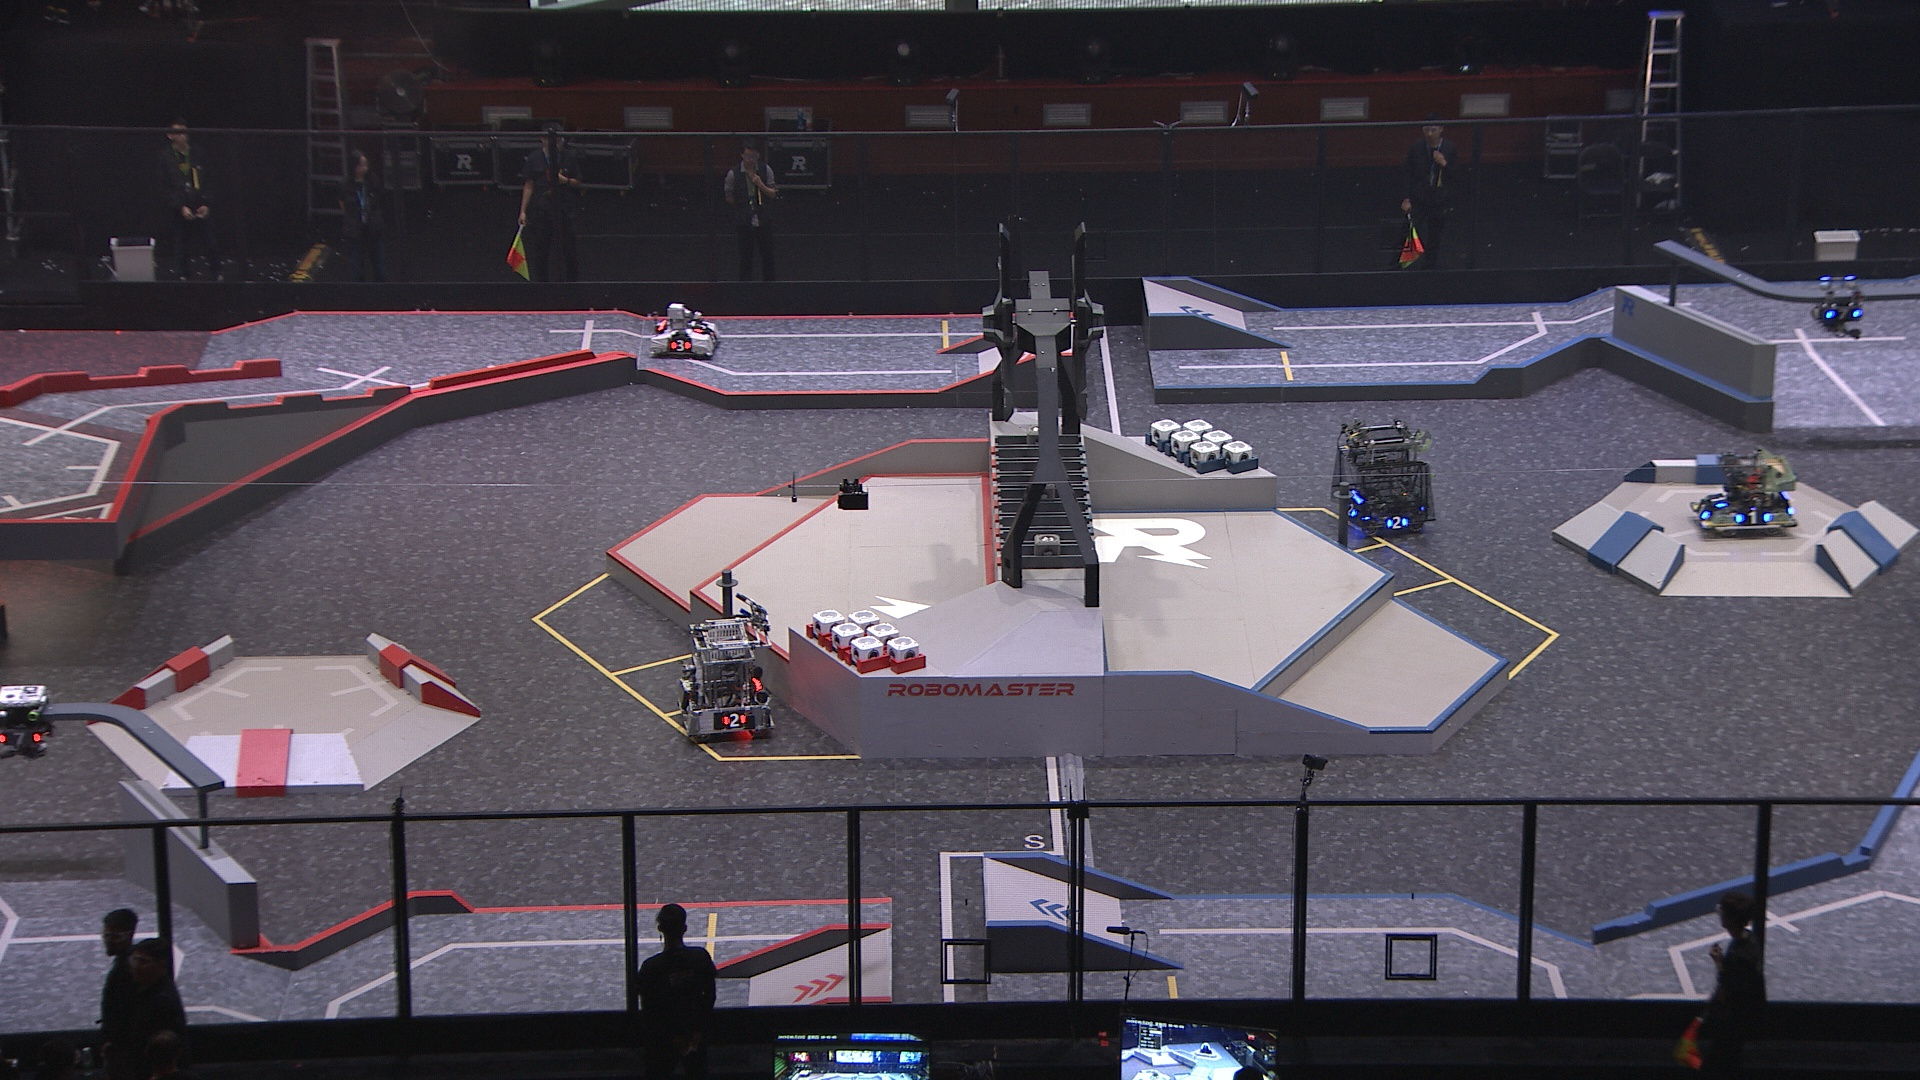armor: (1735, 506, 1775, 527), (1822, 305, 1865, 324), (719, 709, 750, 733), (665, 338, 694, 356), (1385, 512, 1411, 531), (1706, 489, 1730, 509), (1342, 496, 1361, 520), (1695, 498, 1714, 520), (688, 318, 709, 335)
car: (671, 612, 781, 746), (1333, 417, 1439, 541), (1691, 448, 1807, 535), (647, 301, 723, 357)
watcher: (1812, 272, 1869, 338)
